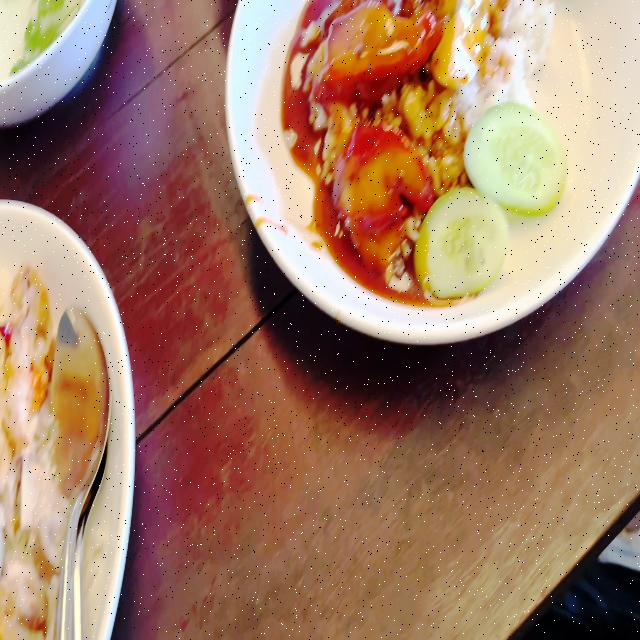boiled_chicken: (0, 453, 69, 640)
boiled_egg: (432, 0, 488, 79)
chicken_rice: (0, 256, 96, 640)
cucumber: (464, 102, 564, 208), (420, 188, 510, 294)
fried_chicken: (2, 257, 52, 454)
red_pork: (334, 121, 428, 258), (327, 6, 434, 88)
red_pork_and_crispy_pork: (292, 0, 573, 288)
